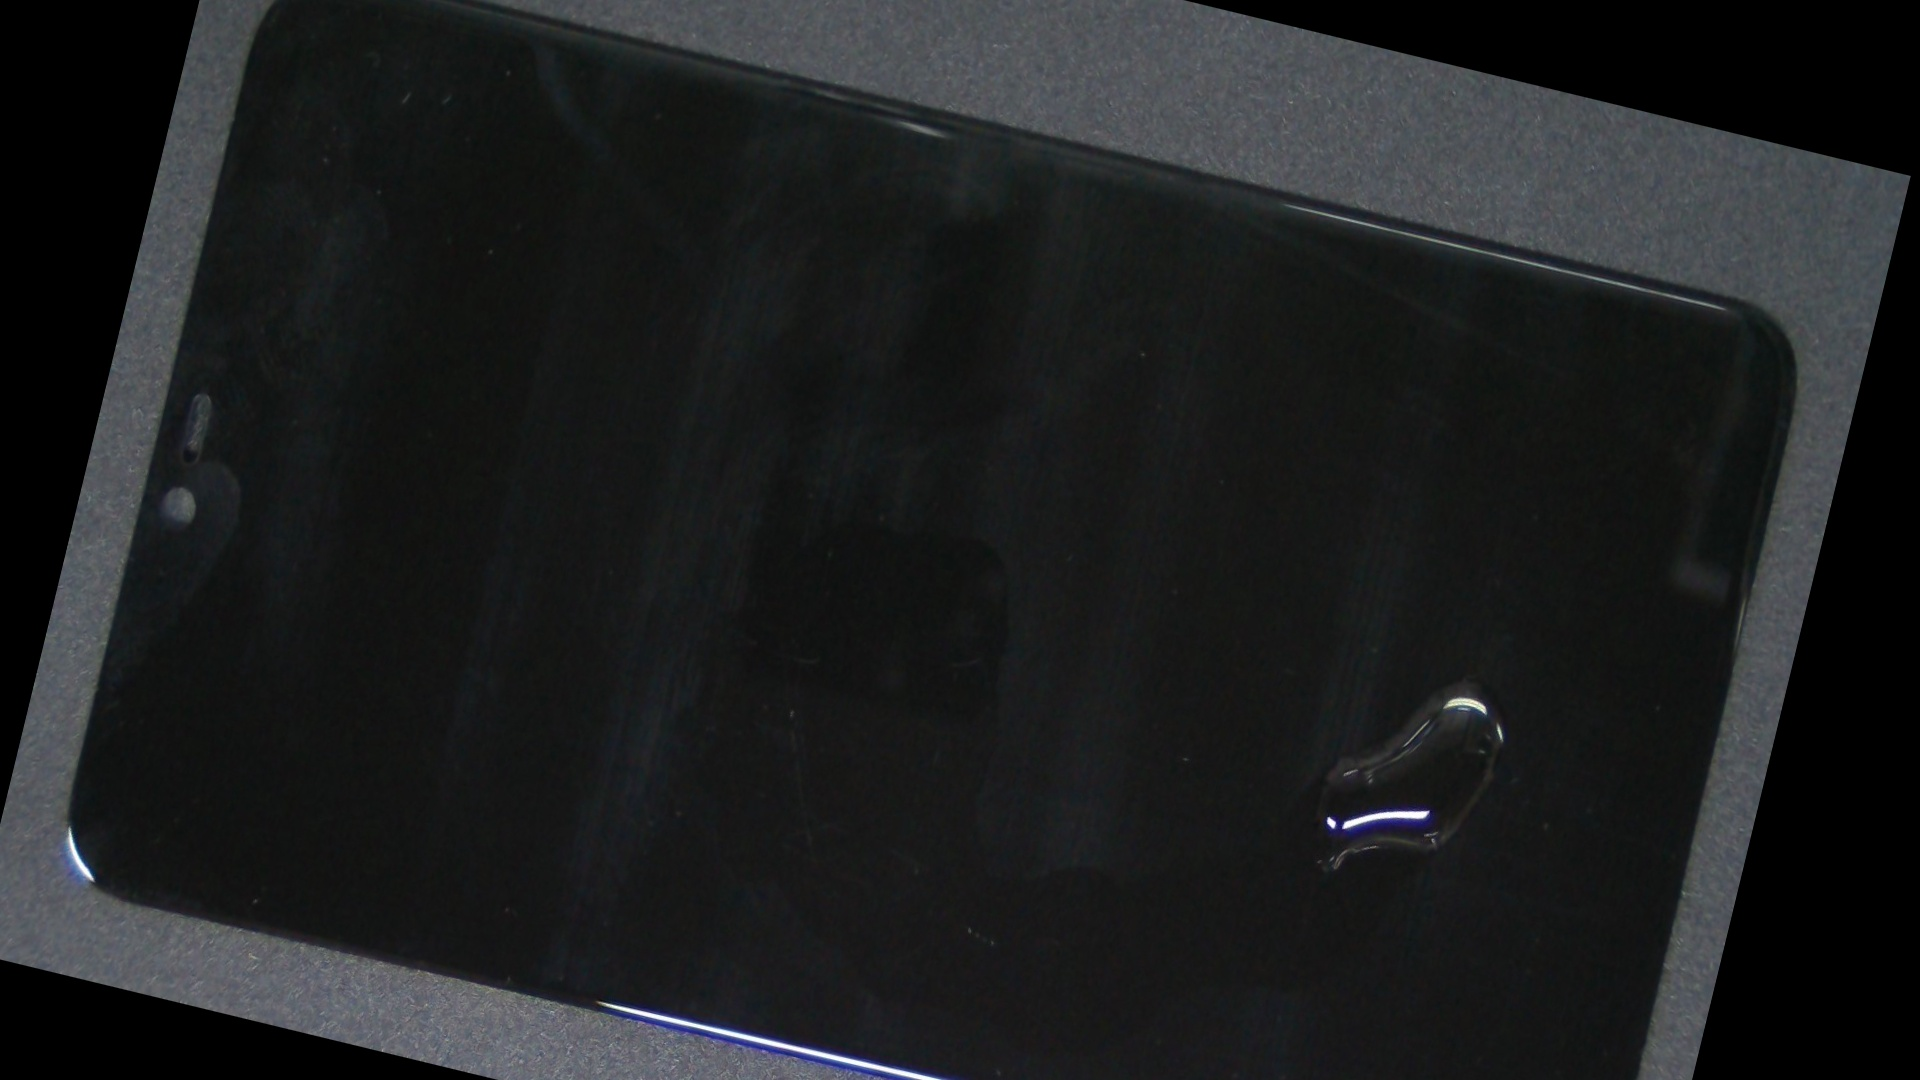oil: (721, 227, 1841, 1043)
